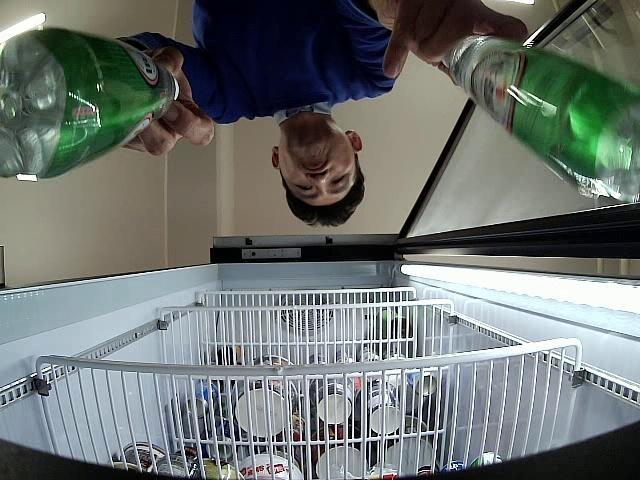18_trevi: (439, 32, 639, 202), (0, 30, 179, 180)
